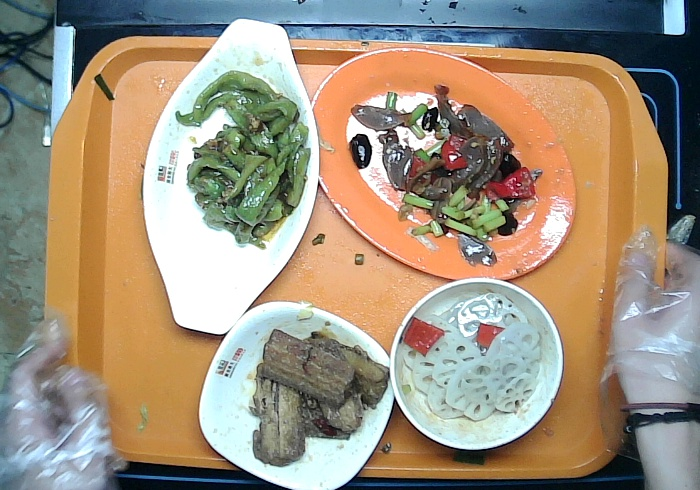NLDX-Bai_Se_Xiao_Fang_Die: (197, 300, 393, 490)
NLDX-Fan_Wan: (390, 278, 566, 452)
NLDX-Ju_Se_Pan: (311, 47, 578, 283)
NLDX-Yu_Pan: (141, 17, 319, 334)
